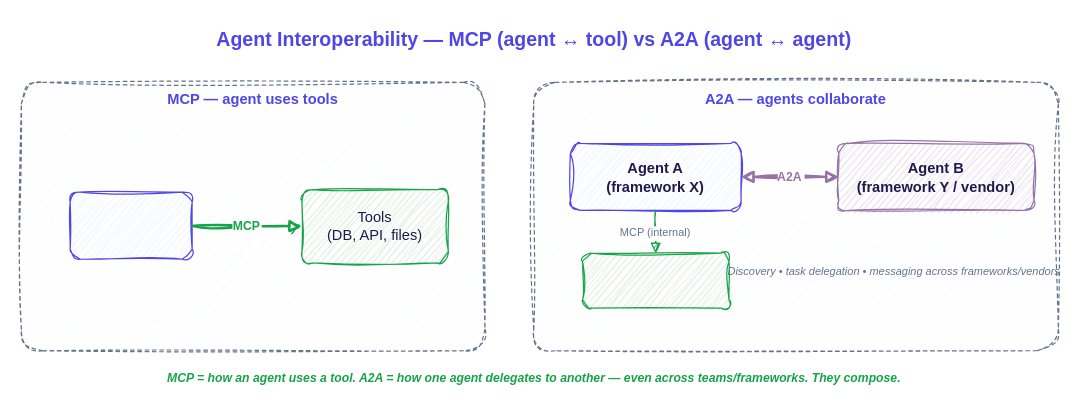
This 1081x410 diagram has some shape labels left out. The shapes that lost their labels are listed below. From the top down, each one's centre as x and y in pixels, then its label:
At point (130, 225): "Agent".
At point (655, 280): "MCP tools".
